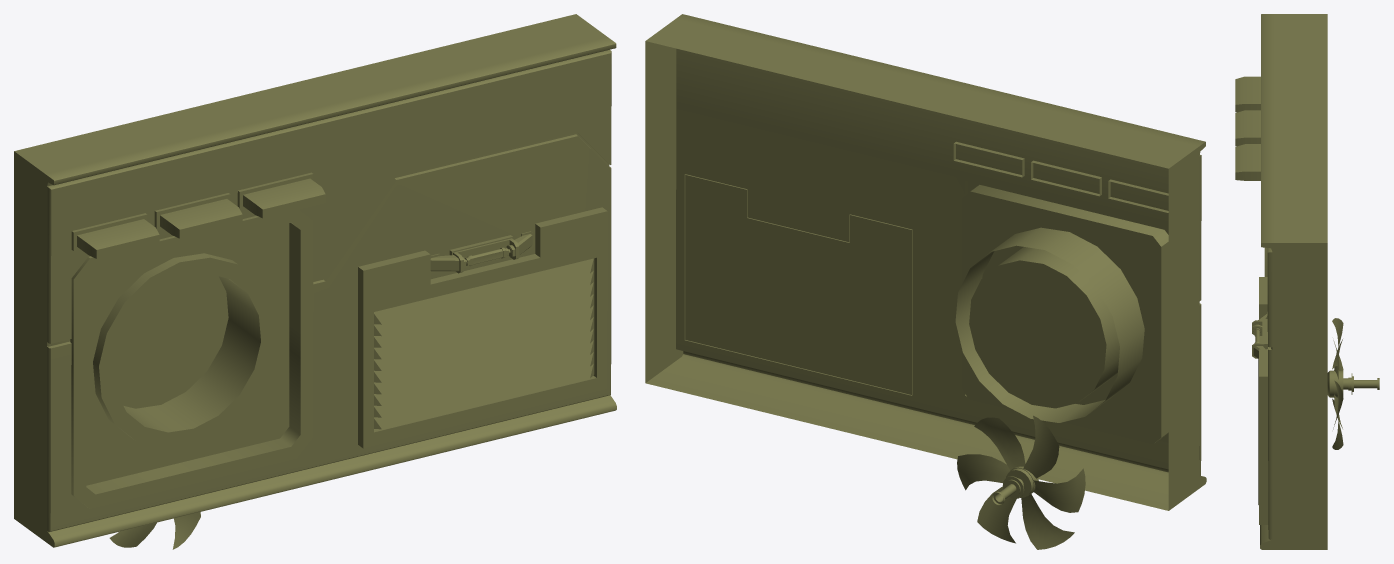
Rendered from pared6.fbx.
3 renders of one model, left to right at view 1: azimuth 30°, elevation 25°; view 2: azimuth 150°, elevation 25°; view 3: azimuth 270°, elevation 25°, orthographic. The views are drawn at different scales.
Visible parts, largest first — view 1: 8, Fan_1.001; view 2: 8, Fan_1.001; view 3: 8, Fan_1.001.
Boxes of the visible parts, left/top/right/bottom form: 8: left=14, top=14, right=616, bottom=547; Fan_1.001: left=109, top=512, right=200, bottom=549; 8: left=645, top=14, right=1206, bottom=510; Fan_1.001: left=957, top=415, right=1085, bottom=549; 8: left=1235, top=14, right=1327, bottom=549; Fan_1.001: left=1327, top=318, right=1379, bottom=449.
Size of the model in its own units: 400 by 299 by 107.
